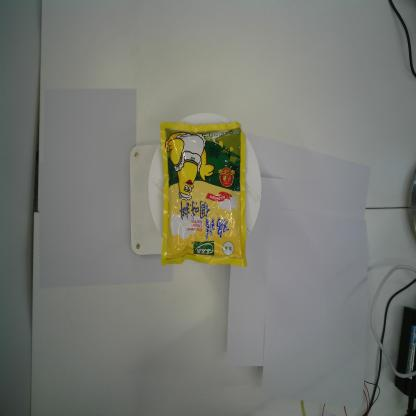Seasoner: (157, 118, 250, 268)
